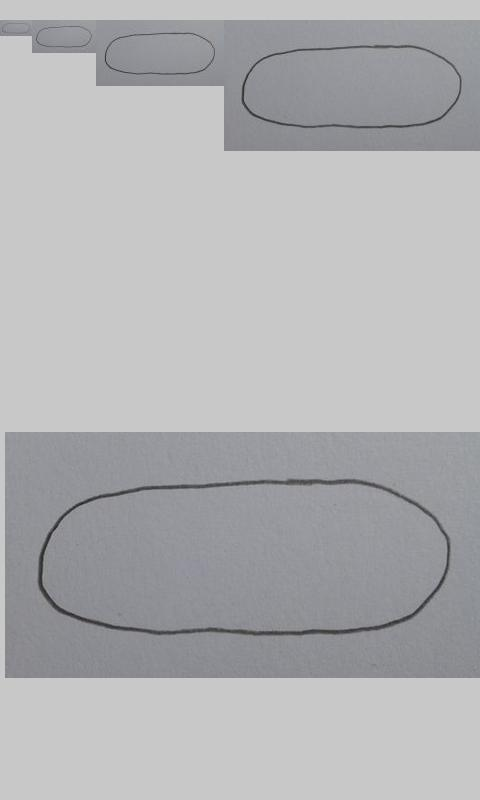chip: (36, 478, 452, 638), (241, 44, 463, 130), (104, 32, 216, 76), (35, 25, 93, 48), (2, 22, 31, 34)
